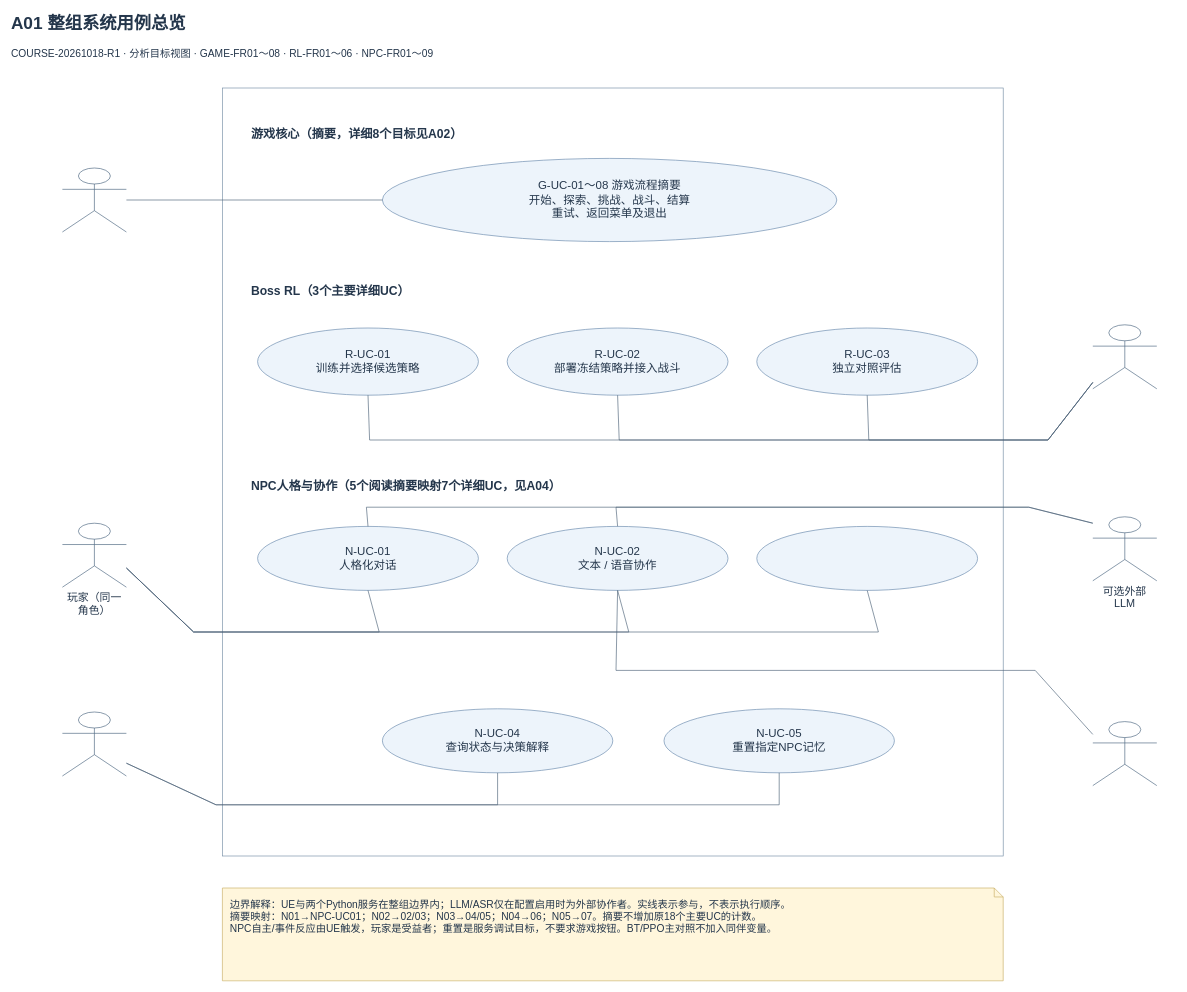
Image size: 1187x992. Some labels were removed from this diagram. The box of each missing label's shape, as (x1, y1, x2, y2) in pixels:
N-UC-03 情境化同伴反应: (756, 526, 978, 590)
NPC服务调试人员: (62, 711, 126, 776)
可选外部ASR: (1092, 721, 1157, 786)
开发与研究人员: (1092, 324, 1157, 389)
整组系统：UE游戏 + Boss RL工作流/推理 + NPC服务: (222, 87, 1003, 856)
玩家: (62, 167, 126, 232)
